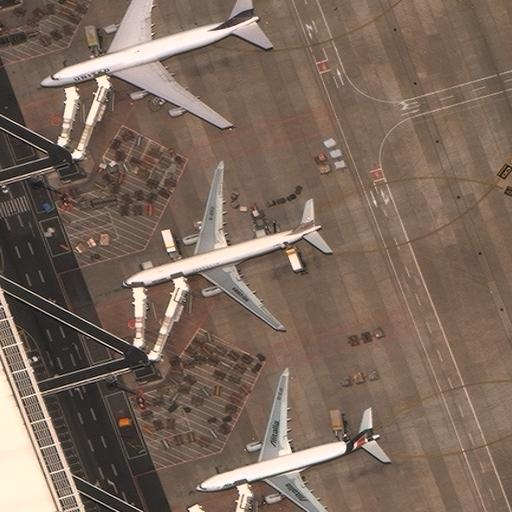Large Civil Transport: (122, 159, 321, 330), (38, 0, 259, 129), (195, 369, 380, 511)
